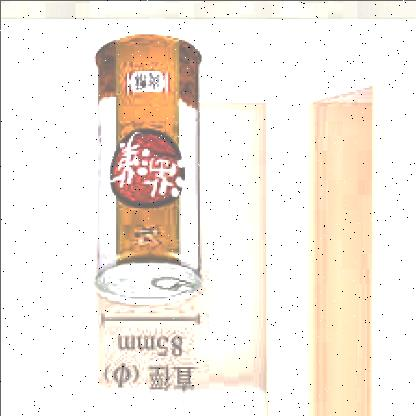Can: (90, 29, 204, 307)
